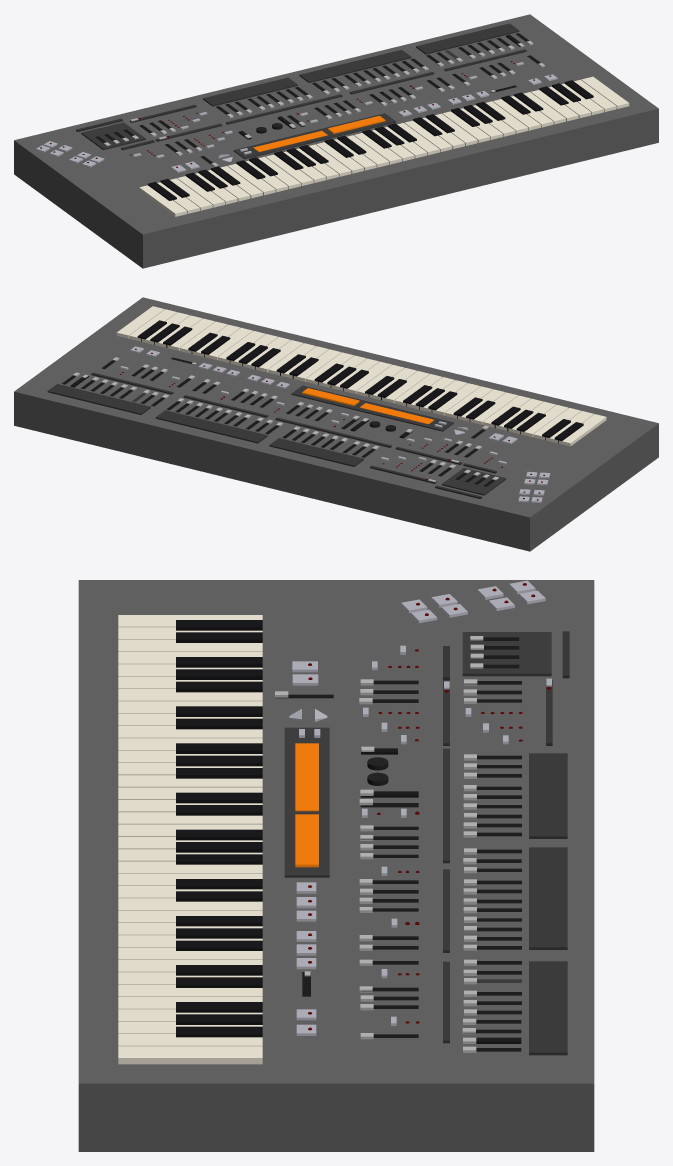
The picture shows the model from 3 angles, top to bottom: view 1: azimuth 30°, elevation 25°; view 2: azimuth 150°, elevation 25°; view 3: azimuth 270°, elevation 25°; orthographic projection. The views are drawn at different scales.
Parts seen in each view (by area): view 1: synth_body.1, panel1.1, panel3, panel3.1, panel2, panel1, Key_C1, Key_C6, panel1.2, Key_F1, Key_F4, Key_F5 (+18 smaller); view 2: synth_body.1, panel1.1, panel3, panel3.1, panel2, panel1, Key_C1, Key_C6, panel1.2, Key_F1, Key_F4, Key_F5 (+18 smaller); view 3: synth_body.1, panel1.1, panel3, panel3.1, panel1, panel2, Key_C6, panel1.2, Key_B2, Key_E2, Key_B1, Key_E3 (+58 smaller).
Boxes of the visible parts, x1=… form: synth_body.1: x1=14, y1=14, x2=658, y2=268; panel1.1: x1=233, y1=113, x2=396, y2=159; panel3: x1=299, y1=50, x2=411, y2=82; panel3.1: x1=416, y1=23, x2=519, y2=54; panel2: x1=203, y1=77, x2=297, y2=106; panel1: x1=81, y1=122, x2=145, y2=150; Key_C1: x1=139, y1=185, x2=187, y2=216; Key_C6: x1=581, y1=76, x2=629, y2=108; panel1.2: x1=253, y1=131, x2=327, y2=151; Key_F1: x1=177, y1=176, x2=225, y2=207; Key_F4: x1=442, y1=111, x2=490, y2=142; Key_F5: x1=530, y1=90, x2=578, y2=121; synth_body.1: x1=14, y1=297, x2=658, y2=551; panel1.1: x1=291, y1=385, x2=453, y2=431; panel3: x1=155, y1=410, x2=267, y2=443; panel3.1: x1=47, y1=384, x2=150, y2=414; panel2: x1=269, y1=438, x2=363, y2=466; panel1: x1=441, y1=468, x2=506, y2=495; Key_C1: x1=558, y1=414, x2=606, y2=446; Key_C6: x1=116, y1=306, x2=164, y2=338; panel1.2: x1=360, y1=403, x2=433, y2=424; Key_F1: x1=520, y1=405, x2=568, y2=437; Key_F4: x1=255, y1=340, x2=303, y2=372; Key_F5: x1=167, y1=318, x2=215, y2=350; synth_body.1: x1=78, y1=580, x2=594, y2=1151; panel1.1: x1=284, y1=727, x2=329, y2=877; panel3: x1=529, y1=847, x2=567, y2=949; panel3.1: x1=529, y1=961, x2=567, y2=1055; panel1: x1=462, y1=632, x2=551, y2=676; panel2: x1=529, y1=753, x2=567, y2=838; Key_C6: x1=118, y1=1046, x2=262, y2=1064; panel1.2: x1=295, y1=743, x2=318, y2=811; Key_B2: x1=118, y1=775, x2=262, y2=787; Key_E2: x1=118, y1=726, x2=262, y2=738; Key_B1: x1=118, y1=689, x2=262, y2=701; Key_E3: x1=118, y1=812, x2=262, y2=824.
Size of what is drawn, in the model's own units: 7.96 by 0.574 by 3.44.
